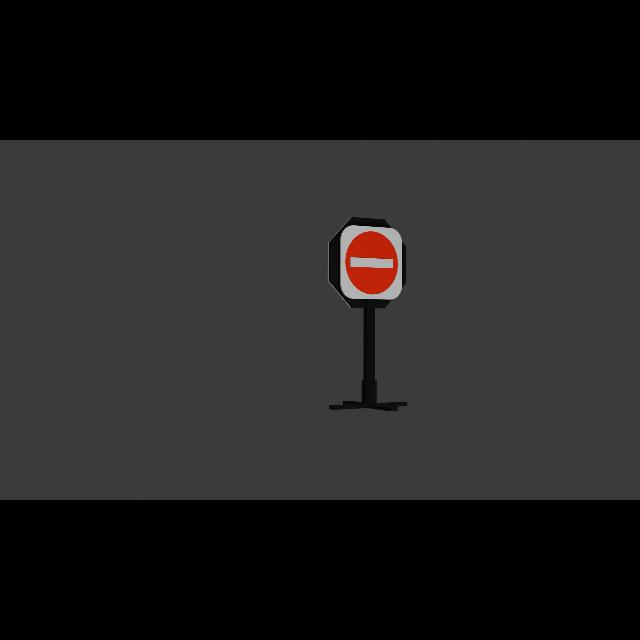sign_noentry: (343, 228, 405, 301)
